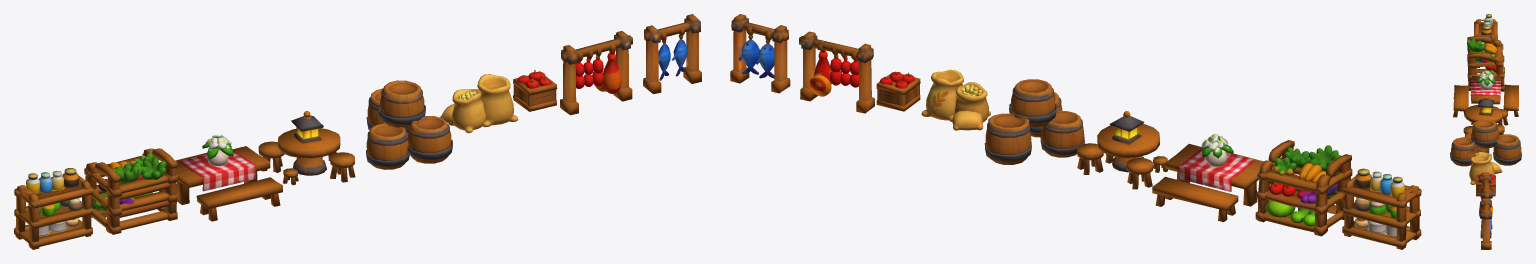
The model's file is stallitems_pieces.glb.
3 renders of one model, left to right at view 1: azimuth 30°, elevation 25°; view 2: azimuth 150°, elevation 25°; view 3: azimuth 270°, elevation 25°, orthographic. The views are drawn at different scales.
Parts seen in each view (by area): view 1: Shelf_Vegetables, BarrelStack_Three, PicnicTable_Checked, Shelf_Jars, RoundTable_Lantern, SausageRack_Wood, GrainSacks_Open, FishRack_Wood, AppleCrate_Full; view 2: Shelf_Vegetables, BarrelStack_Three, PicnicTable_Checked, Shelf_Jars, RoundTable_Lantern, SausageRack_Wood, FishRack_Wood, GrainSacks_Open, AppleCrate_Full; view 3: BarrelStack_Three, PicnicTable_Checked, Shelf_Vegetables, RoundTable_Lantern, GrainSacks_Open, FishRack_Wood, Shelf_Jars, SausageRack_Wood, AppleCrate_Full.
Part boxes in pixels (<box>): Shelf_Vegetables: <box>84,148,177,234</box>; BarrelStack_Three: <box>366,80,452,169</box>; PicnicTable_Checked: <box>175,134,282,221</box>; Shelf_Jars: <box>14,168,93,249</box>; RoundTable_Lantern: <box>258,111,355,185</box>; SausageRack_Wood: <box>560,31,632,115</box>; GrainSacks_Open: <box>440,74,518,133</box>; FishRack_Wood: <box>643,14,701,94</box>; AppleCrate_Full: <box>513,70,557,111</box>; Shelf_Vegetables: <box>1255,140,1352,236</box>; BarrelStack_Three: <box>984,79,1084,164</box>; PicnicTable_Checked: <box>1152,134,1273,222</box>; Shelf_Jars: <box>1342,168,1421,249</box>; RoundTable_Lantern: <box>1077,111,1167,189</box>; SausageRack_Wood: <box>799,31,874,113</box>; FishRack_Wood: <box>730,14,790,93</box>; GrainSacks_Open: <box>921,69,990,130</box>; AppleCrate_Full: <box>876,71,920,111</box>; BarrelStack_Three: <box>1450,119,1521,166</box>; PicnicTable_Checked: <box>1453,70,1518,117</box>; Shelf_Vegetables: <box>1467,35,1504,91</box>; RoundTable_Lantern: <box>1463,96,1508,136</box>; GrainSacks_Open: <box>1469,152,1502,184</box>; FishRack_Wood: <box>1480,198,1491,249</box>; Shelf_Jars: <box>1474,14,1497,67</box>; SausageRack_Wood: <box>1479,172,1492,229</box>; AppleCrate_Full: <box>1476,173,1495,196</box>.
Size of the model in its own units: 49.86 by 4.6 by 7.55.
Materials: 1 (1 with a texture image).
